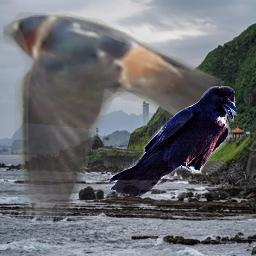Crow: (109, 86, 237, 197)
Swallow: (3, 5, 225, 216)
